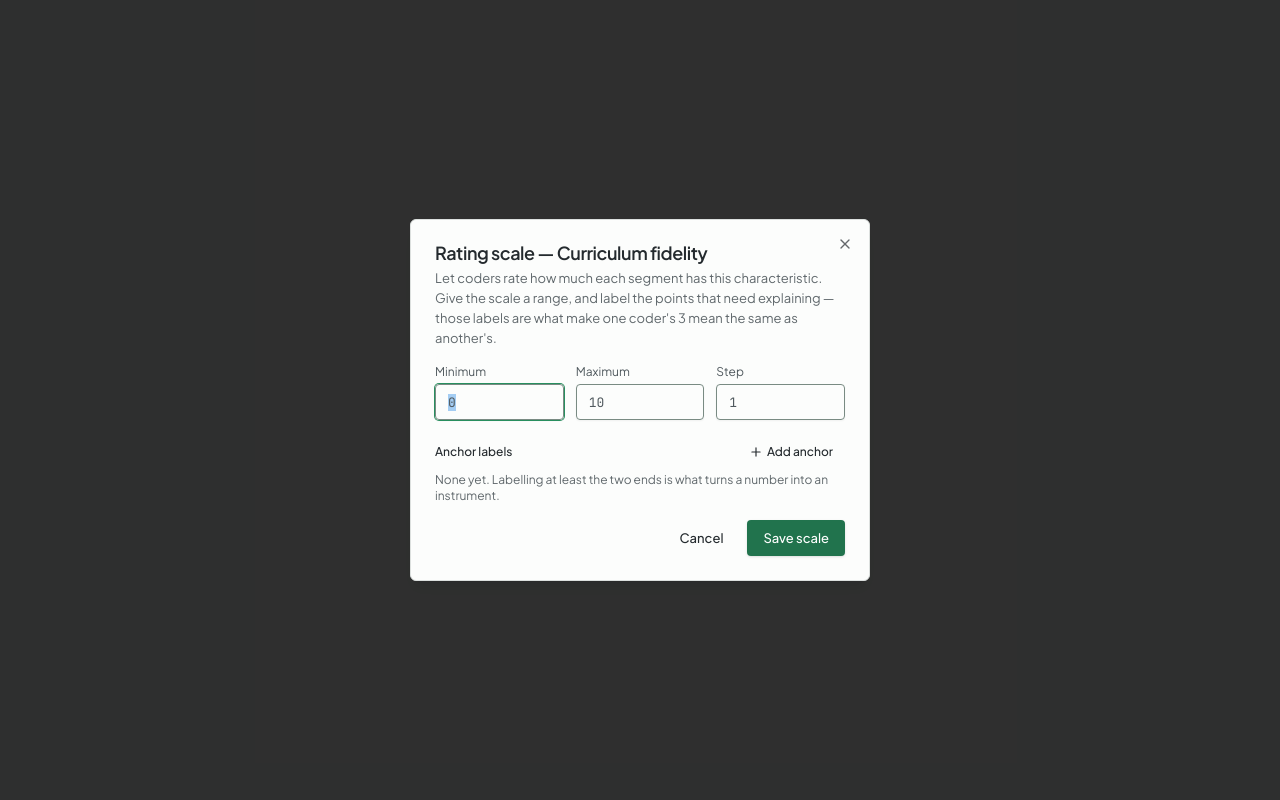
Test: MagnitudeScaleDialog — the draft › refuses a range whose maximum is not above its minimum, in words, and disables Save
Replace the text in the field labelled "Maximum" with "0" at (640, 402), box top-left (576, 384), bottom-right (704, 420)
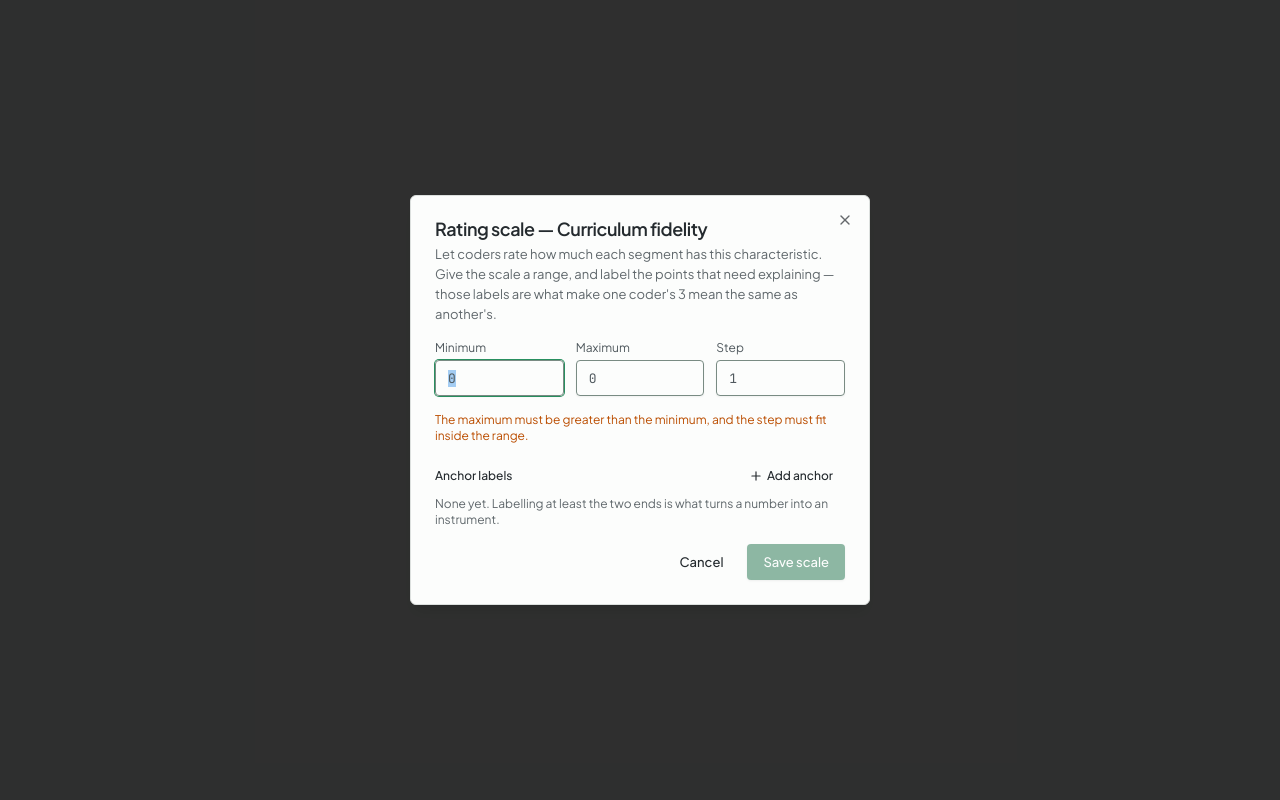
Expected: the text "The maximum must be greater than the minimum" is shown, top-left (435, 412), bottom-right (827, 443)
Expected: the button "Save scale" is disabled, top-left (748, 544), bottom-right (845, 580)
Replace the text in the field labelled "Maximum" with "5" at (640, 378), box top-left (576, 360), bottom-right (704, 396)
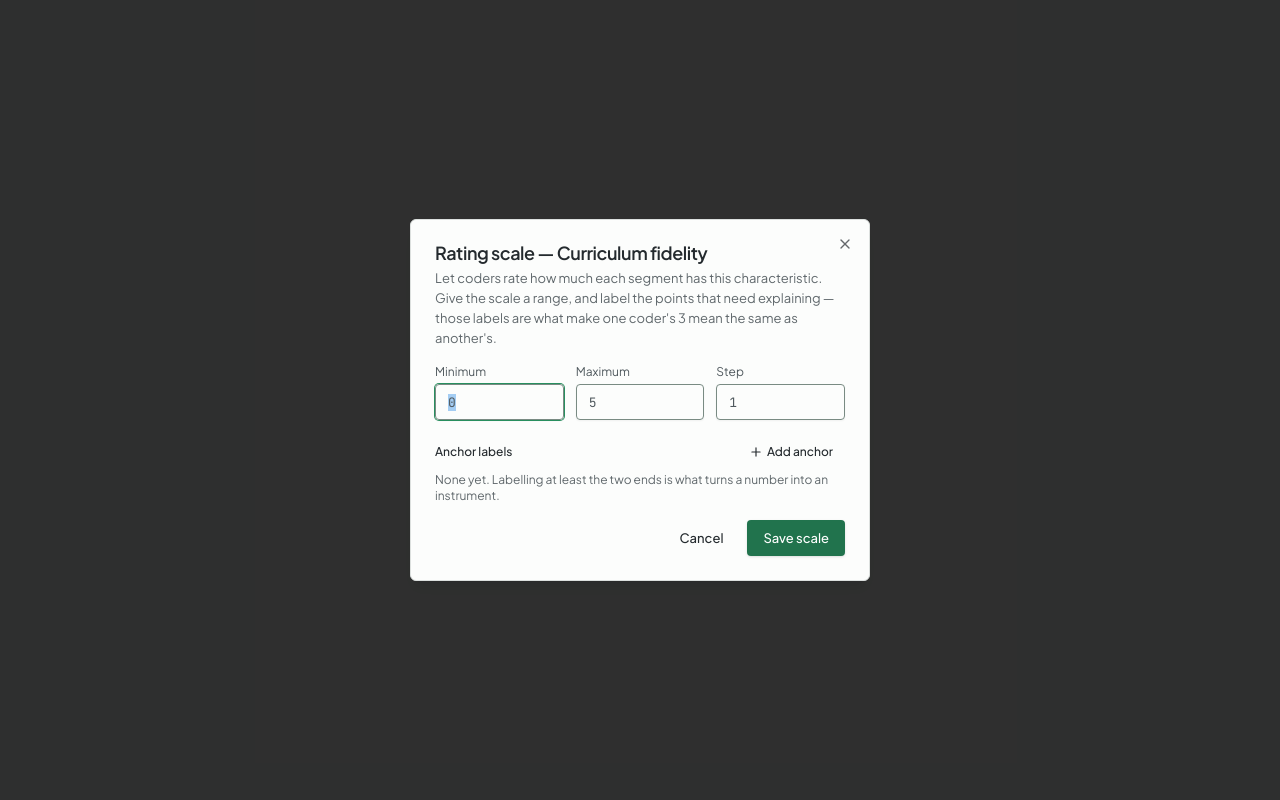
Expected: the text "The maximum must be greater than the minimum" is gone
Expected: the button "Save scale" is enabled, top-left (748, 520), bottom-right (845, 556)
